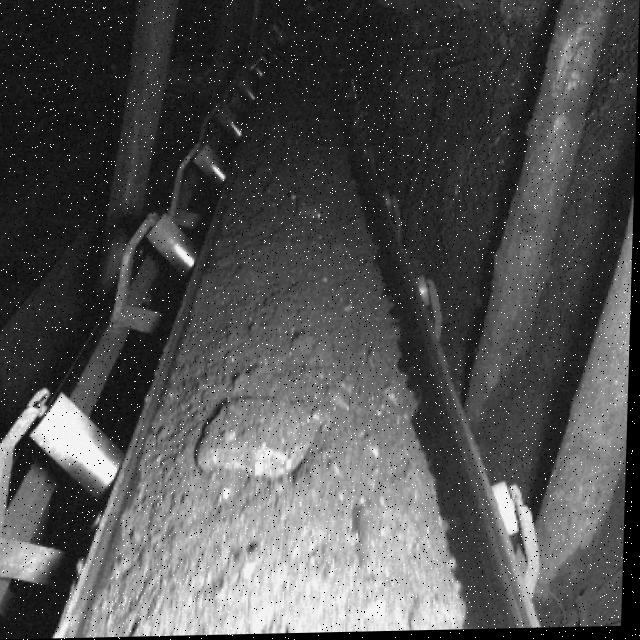large_sized_coal: (198, 403, 324, 476)
